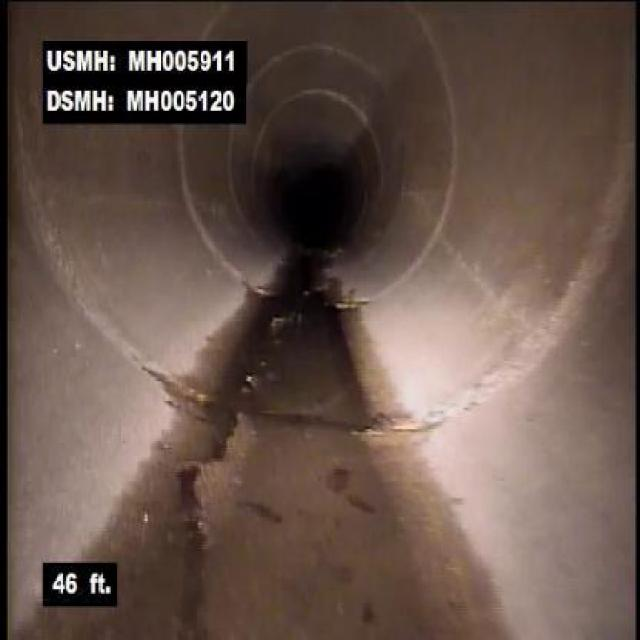Buckling: (172, 401, 250, 617), (236, 308, 310, 404)
